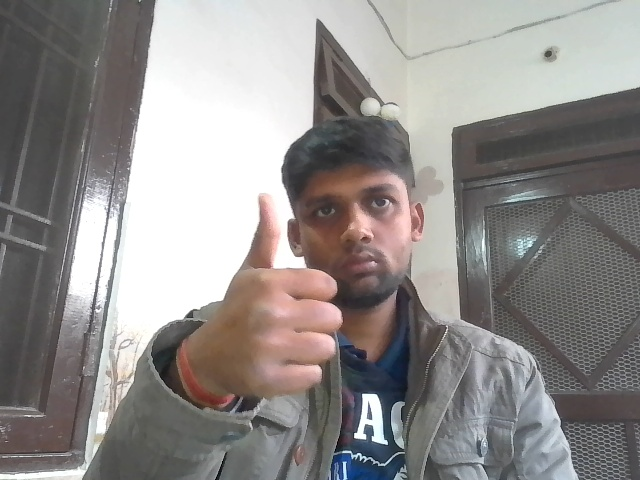BestOfLuck: (220, 190, 347, 403)
